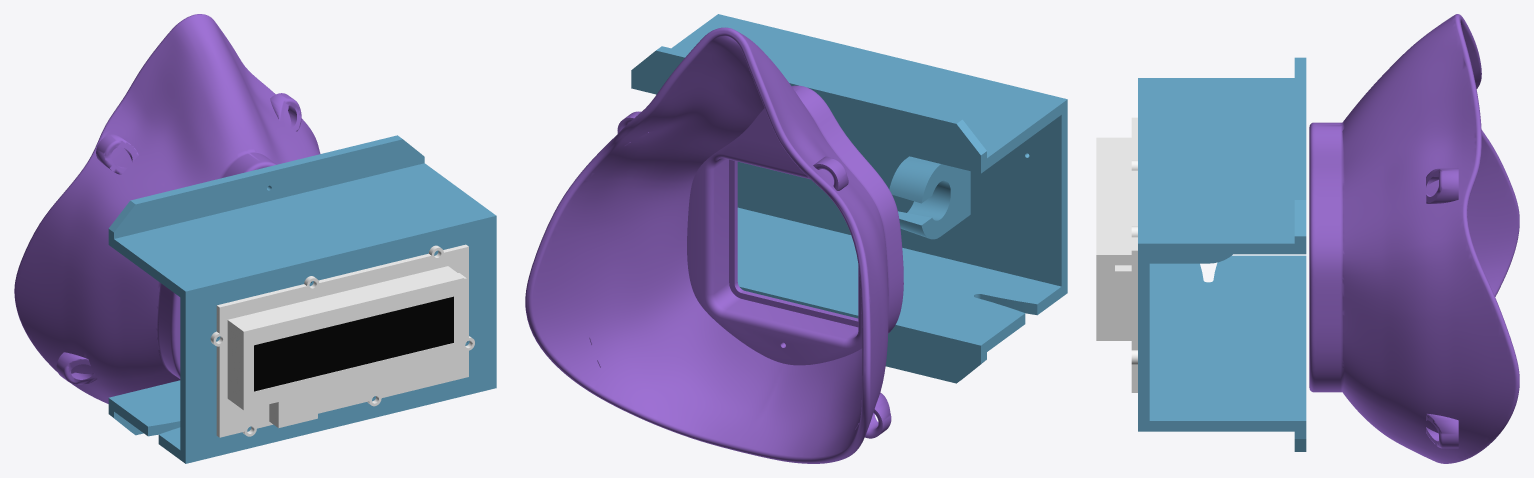
The model's file is caption-mask.glb.
The picture shows the model from 3 angles, left to right: view 1: azimuth 30°, elevation 25°; view 2: azimuth 150°, elevation 25°; view 3: azimuth 270°, elevation 25°; orthographic projection. The views are drawn at different scales.
Parts seen in each view (by area): view 1: Final - Display housing V3[PRINT]-2, Prototype model V3 [PRINT], Final - New display-1, Box001; view 2: Prototype model V3 [PRINT], Final - Display housing V3[PRINT]-2; view 3: Prototype model V3 [PRINT], Final - Display housing V3[PRINT]-2, Final - New display-1.
Part boxes in pixels (box(x1,y1,x2,y2)): Final - Display housing V3[PRINT]-2: box(108, 135, 496, 463); Prototype model V3 [PRINT]: box(14, 14, 320, 403); Final - New display-1: box(210, 244, 474, 437); Box001: box(254, 296, 453, 391); Prototype model V3 [PRINT]: box(525, 27, 903, 463); Final - Display housing V3[PRINT]-2: box(631, 14, 1067, 383); Prototype model V3 [PRINT]: box(1309, 14, 1519, 463); Final - Display housing V3[PRINT]-2: box(1138, 57, 1306, 451); Final - New display-1: box(1096, 117, 1137, 392).
Bounding box in the file's own units: 2.54 × 3.02 × 2.75.
